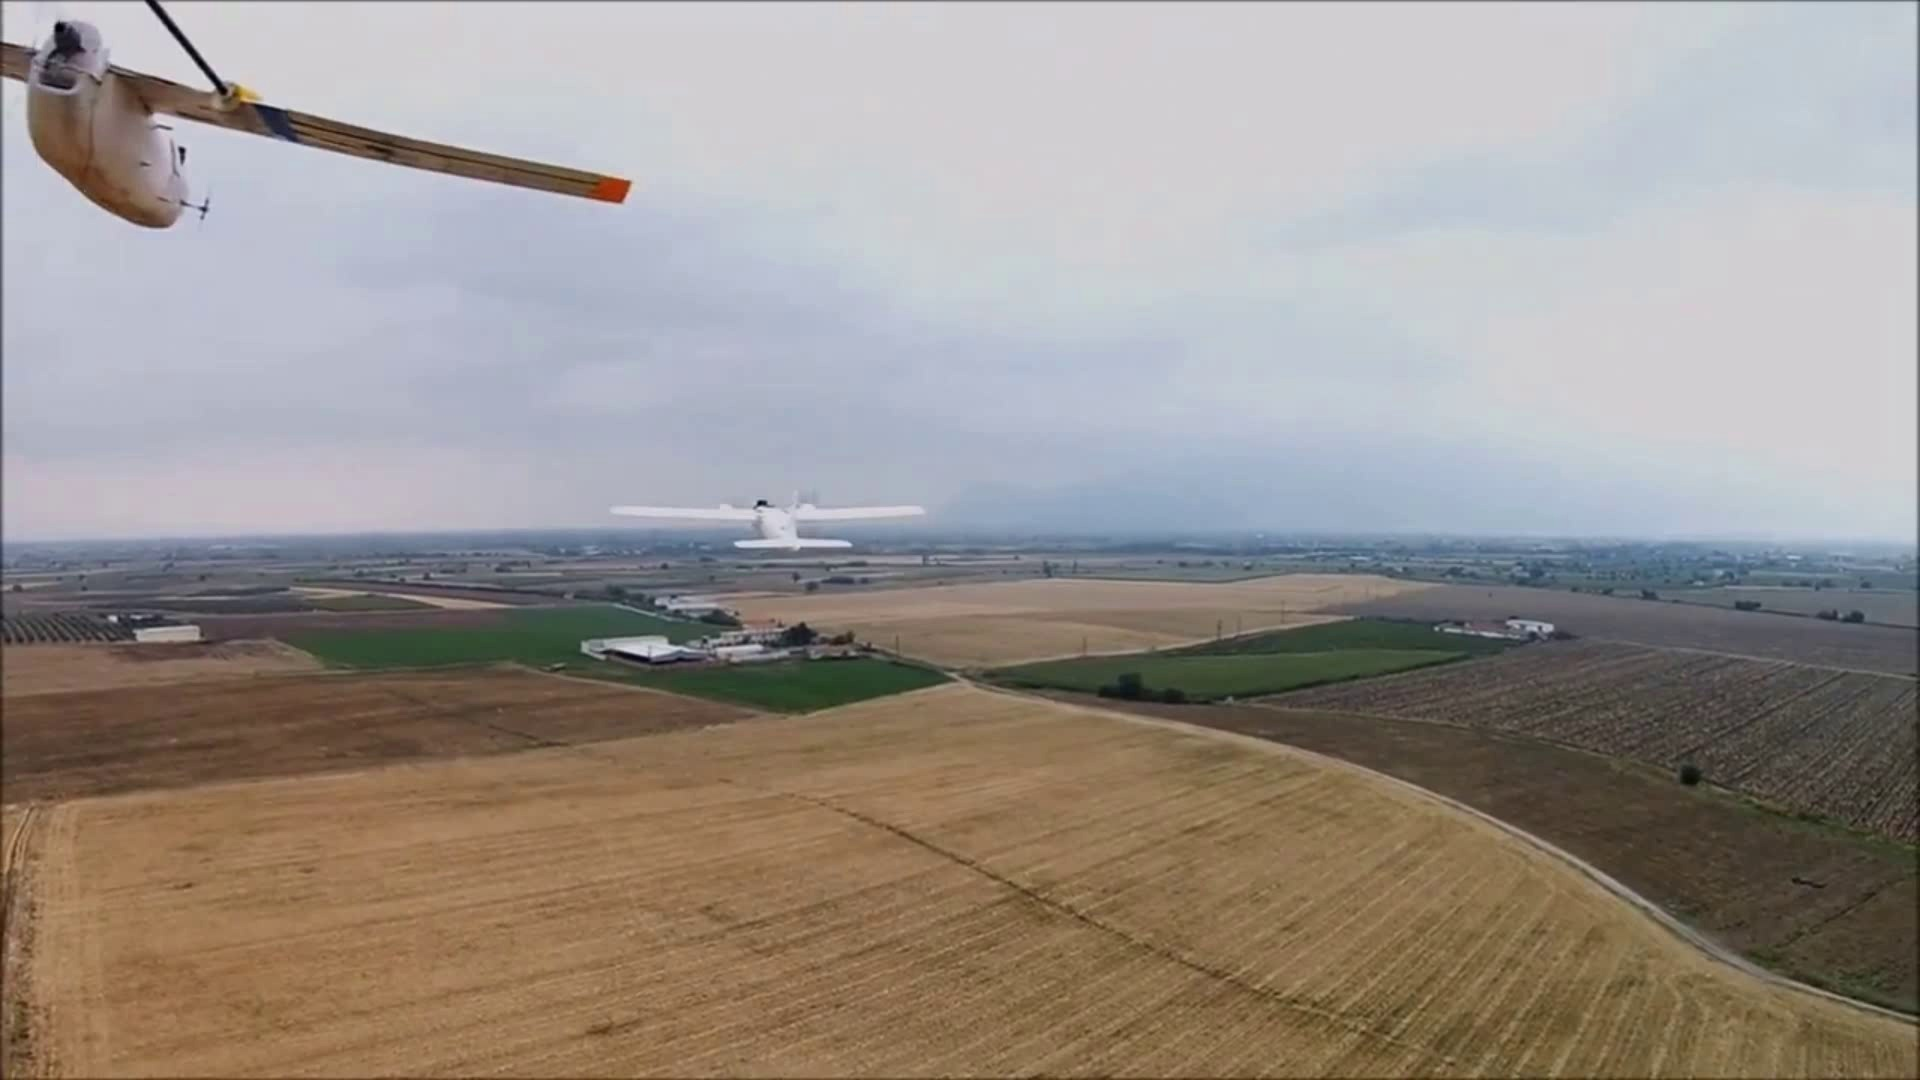airplane: (1, 3, 632, 229)
